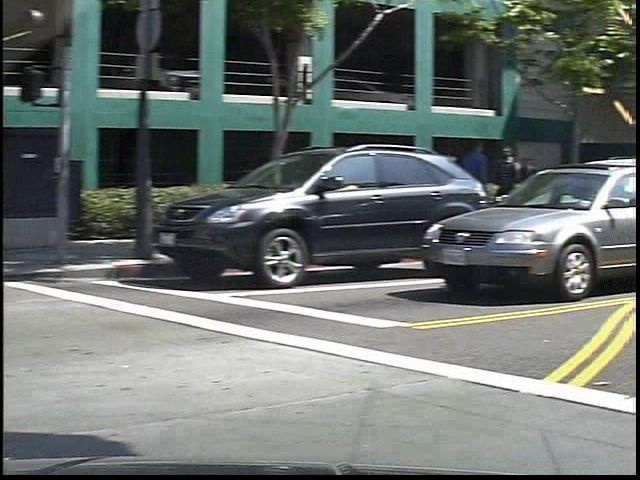person: (475, 138, 514, 240)
